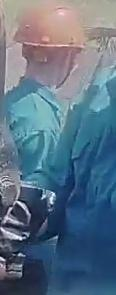gloves: (0, 178, 54, 258)
helmet: (10, 0, 88, 51)
vest: (43, 63, 115, 291), (7, 86, 62, 178)
